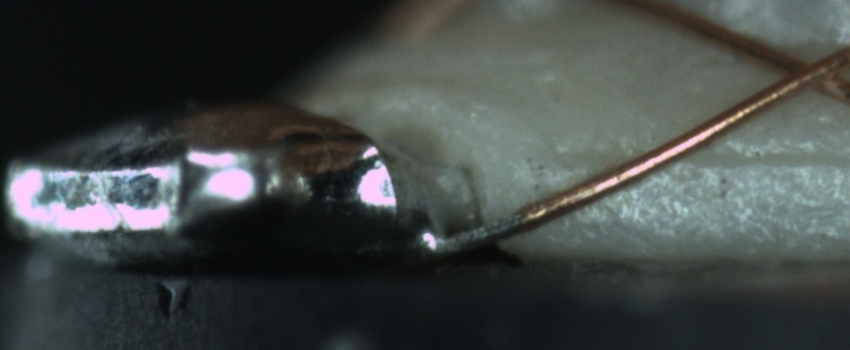CL: (757, 41, 844, 105)
DL: (532, 126, 850, 190)
TS: (427, 209, 519, 253)
TTCW: (419, 199, 549, 254)
